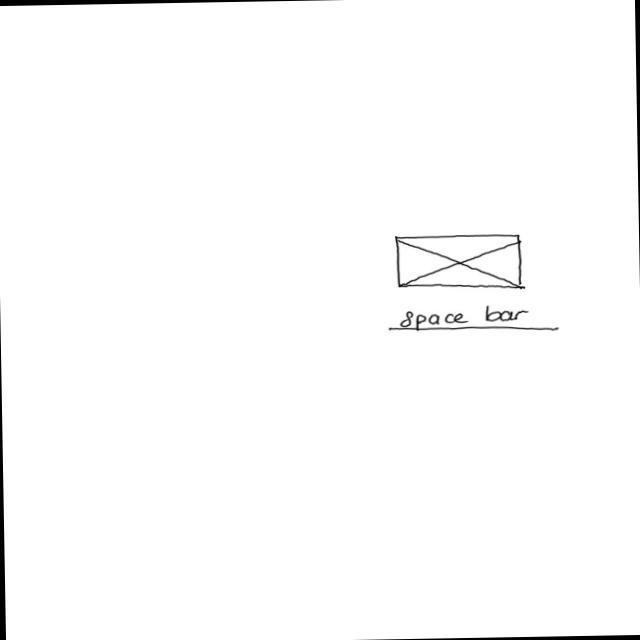image: (395, 233, 525, 293)
input: (389, 304, 562, 338)
